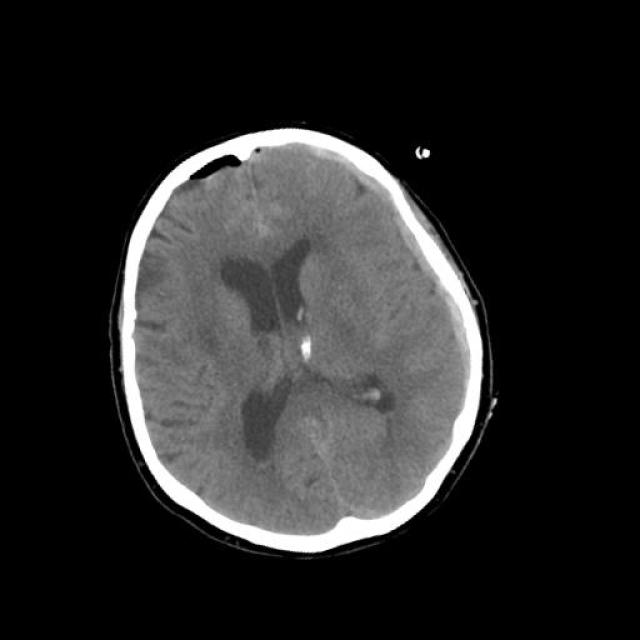Subdural: (294, 88, 535, 447)
